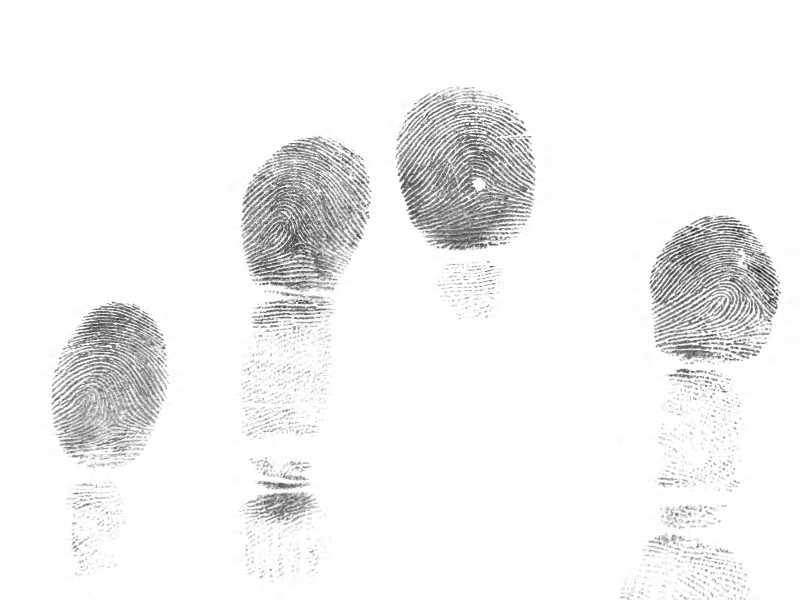D: (390, 77, 540, 254), (630, 203, 785, 373), (41, 290, 175, 479), (231, 124, 376, 298)
P: (635, 363, 760, 530), (228, 297, 351, 455), (63, 484, 139, 585), (422, 259, 519, 332)
